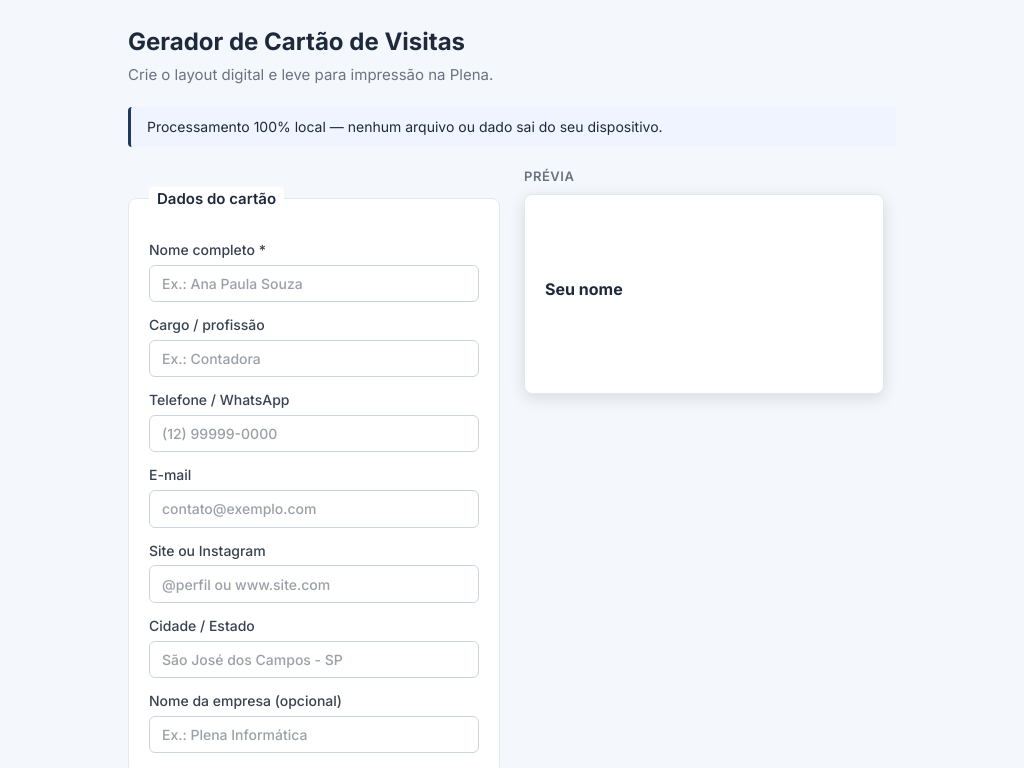
BusinessCardCreatorTool — download PDF › habilita o botão após informar nome
In the field labelled "Nome completo *": (314, 283) 149,265 -> 479,302, type "Ana Silva"
(page scrolled)
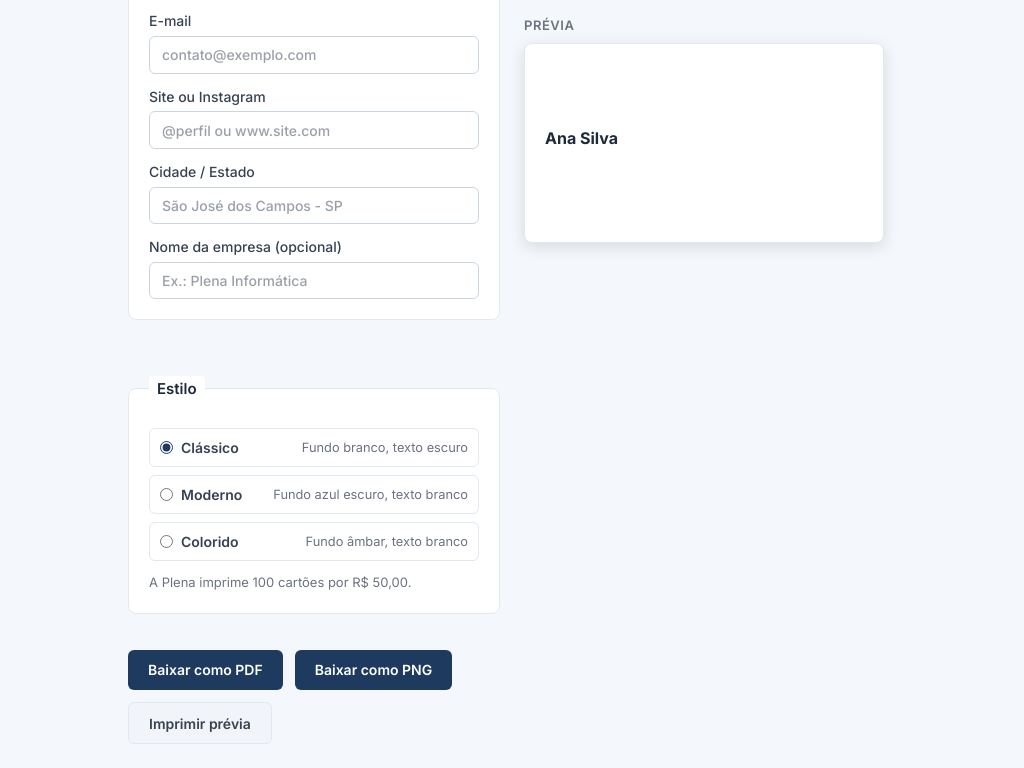
Check: the button "Baixar como PDF" is enabled, box 128,650 -> 283,690
